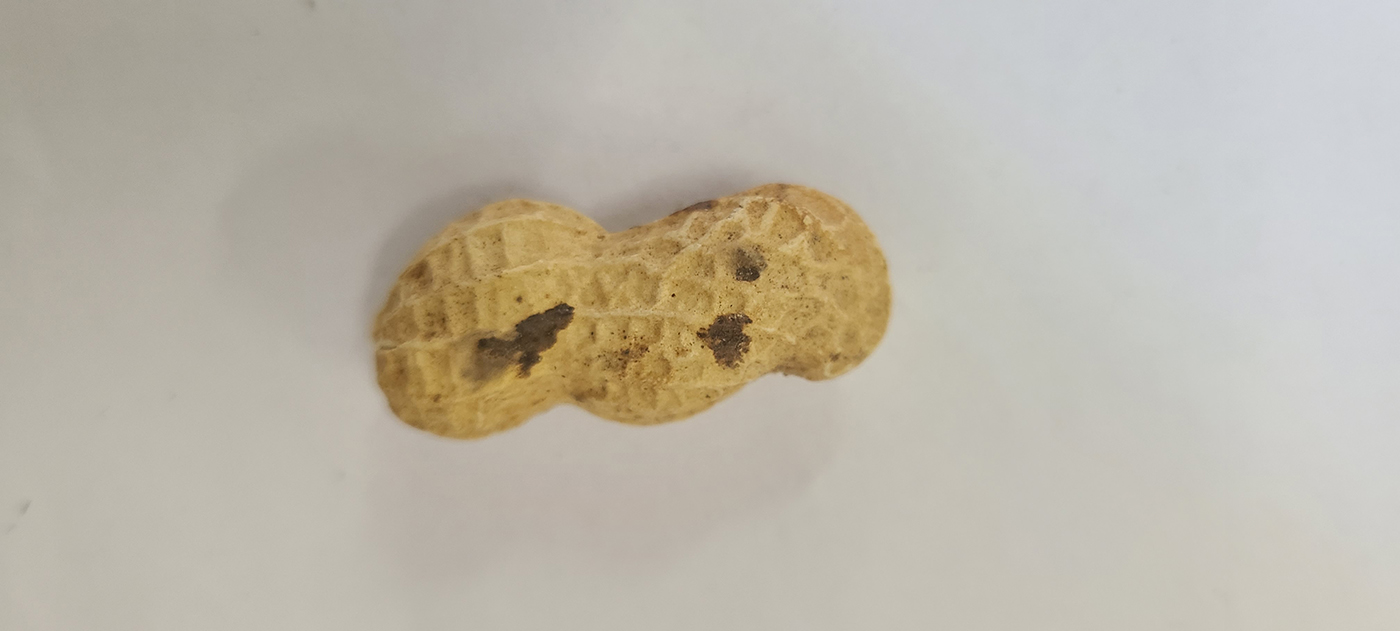h: (372, 180, 893, 441)
